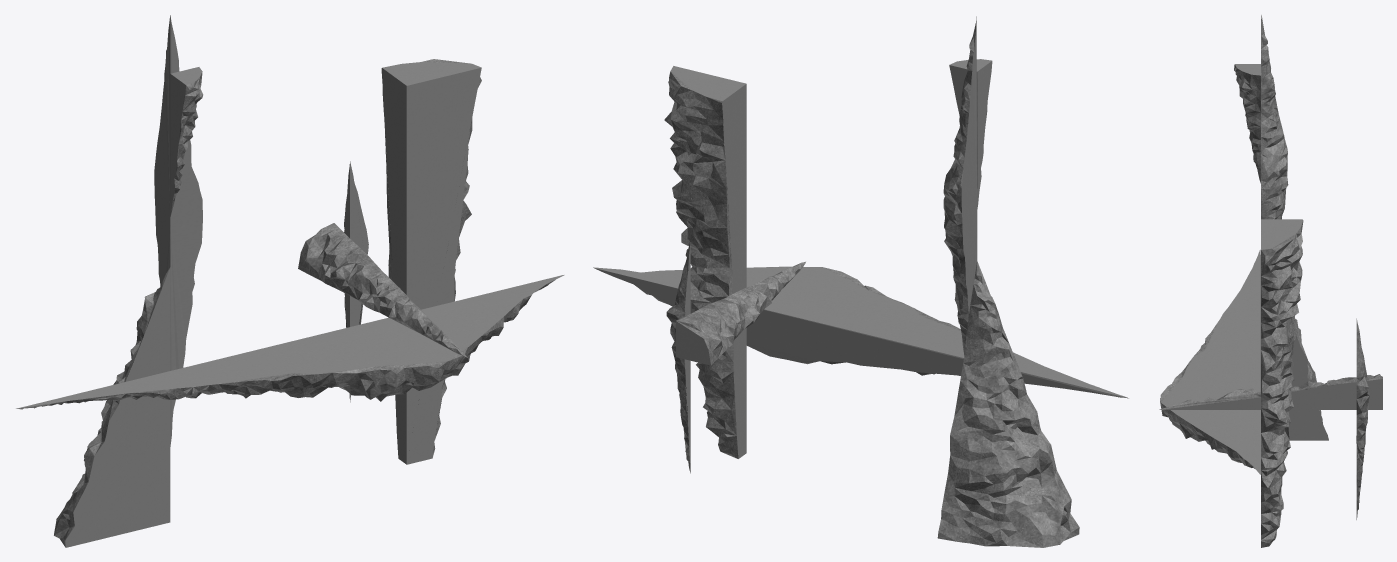
Rendered from textureBaking(ajustes-10-ene-22).gltf.
3 views of the same model, side by side, from view 1: azimuth 30°, elevation 25°; view 2: azimuth 150°, elevation 25°; view 3: azimuth 270°, elevation 25° (orthographic). The views are drawn at different scales.
Visible parts, largest first — view 1: Texturizado; view 2: Texturizado; view 3: Texturizado.
Boxes of the visible parts, left/top/right/bottom form: Texturizado: left=16, top=15, right=564, bottom=547; Texturizado: left=593, top=16, right=1128, bottom=547; Texturizado: left=1159, top=15, right=1382, bottom=547.
Bounding box in the file's own units: 15.19 × 13.41 × 6.4.
2 materials, 2 textured.
